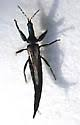Phlaeothripidae: (14, 4, 64, 119)
